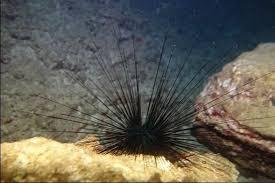urchin: (35, 37, 250, 162)
